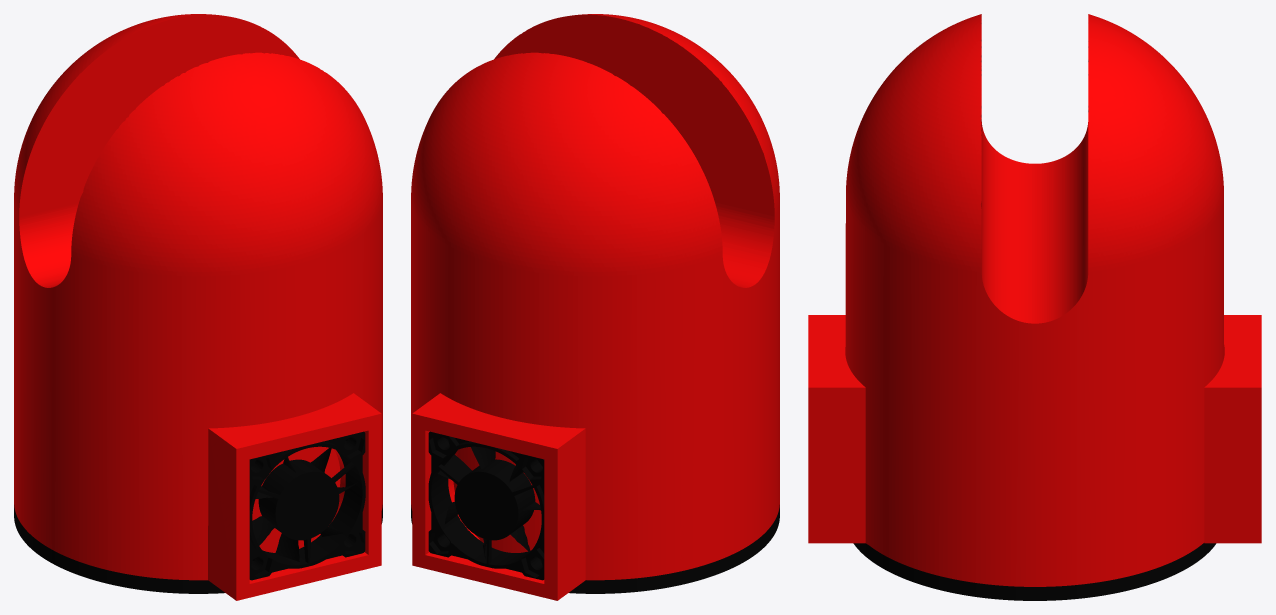
Rendered from Art4.dae.
3 renders of one model, left to right at view 1: azimuth 30°, elevation 25°; view 2: azimuth 150°, elevation 25°; view 3: azimuth 270°, elevation 25°, orthographic. The views are drawn at different scales.
Parts seen in each view (by area): view 1: Compound005, Compound006; view 2: Compound005, Compound006; view 3: Compound005, Compound006.
Part boxes in pixels (box(x1,y1,x2,y2)): Compound005: box(14, 14, 382, 600); Compound006: box(14, 431, 382, 593); Compound005: box(411, 14, 779, 600); Compound006: box(411, 431, 779, 593); Compound005: box(808, 14, 1261, 586); Compound006: box(853, 543, 1216, 600).
Bounding box in the file's own units: 110 × 132 × 162.
